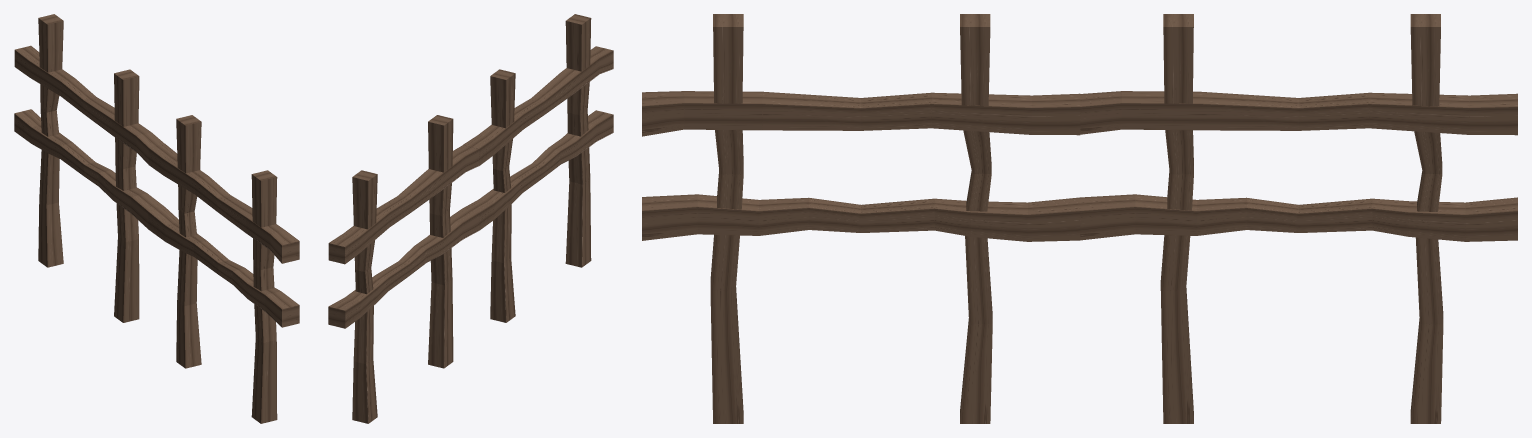
The model's file is zabor.fbx.
3 views of the same model, side by side, from view 1: azimuth 30°, elevation 25°; view 2: azimuth 150°, elevation 25°; view 3: azimuth 270°, elevation 25° (orthographic). The views are drawn at different scales.
Visible parts, largest first — view 1: Cube.005; view 2: Cube.005; view 3: Cube.005.
Boxes of the visible parts, left/top/right/bottom form: Cube.005: left=14, top=14, right=299, bottom=423; Cube.005: left=328, top=14, right=613, bottom=423; Cube.005: left=642, top=14, right=1517, bottom=423.
Bounding box in the file's own units: 88.47 × 1160 × 2319.
Materials: 8 (8 with a texture image).
